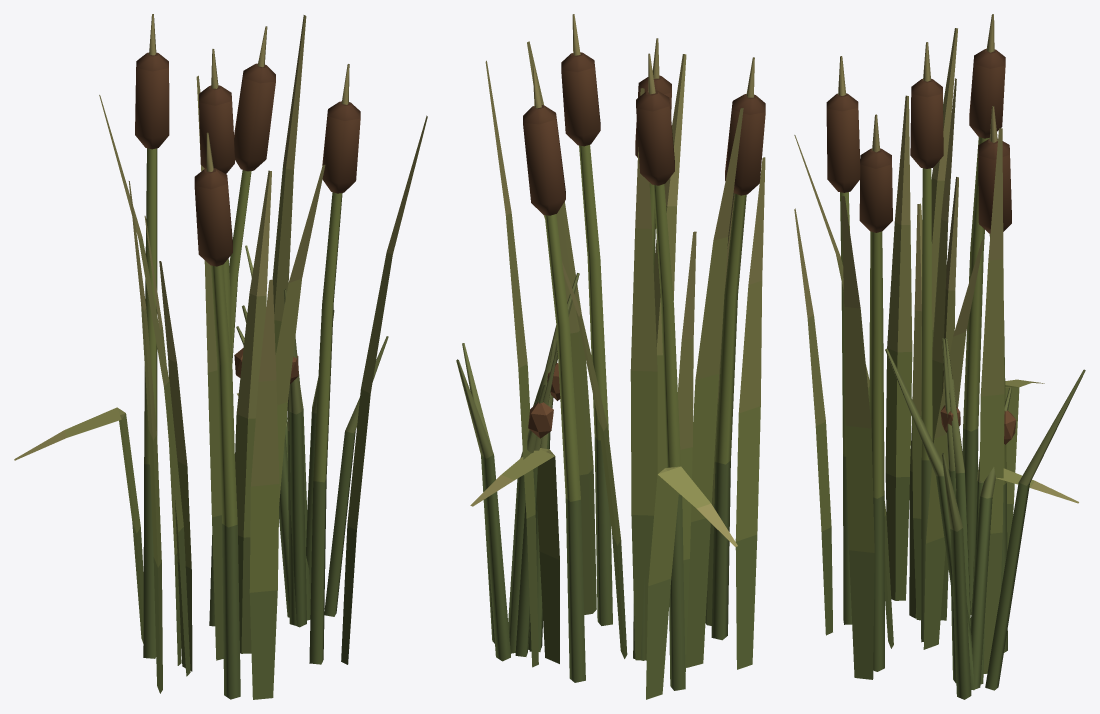
Rendered from ReedClump1_leaf.glb.
3 renders of one model, left to right at view 1: azimuth 30°, elevation 25°; view 2: azimuth 150°, elevation 25°; view 3: azimuth 270°, elevation 25°, orthographic. The views are drawn at different scales.
Visible parts, largest first — view 1: ReedClump1_leaf; view 2: ReedClump1_leaf; view 3: ReedClump1_leaf.
Part boxes in pixels (bbox=[...]): ReedClump1_leaf: bbox=[14, 14, 427, 699]; ReedClump1_leaf: bbox=[456, 14, 765, 699]; ReedClump1_leaf: bbox=[794, 14, 1085, 699].
Bounding box in the file's own units: 3.94 × 7.34 × 3.2.
